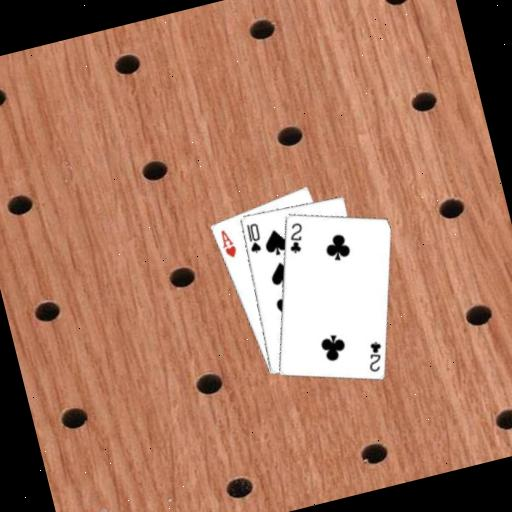10S: (242, 219, 266, 256)
2C: (360, 337, 389, 375), (281, 219, 309, 256)
AH: (215, 225, 240, 262)
